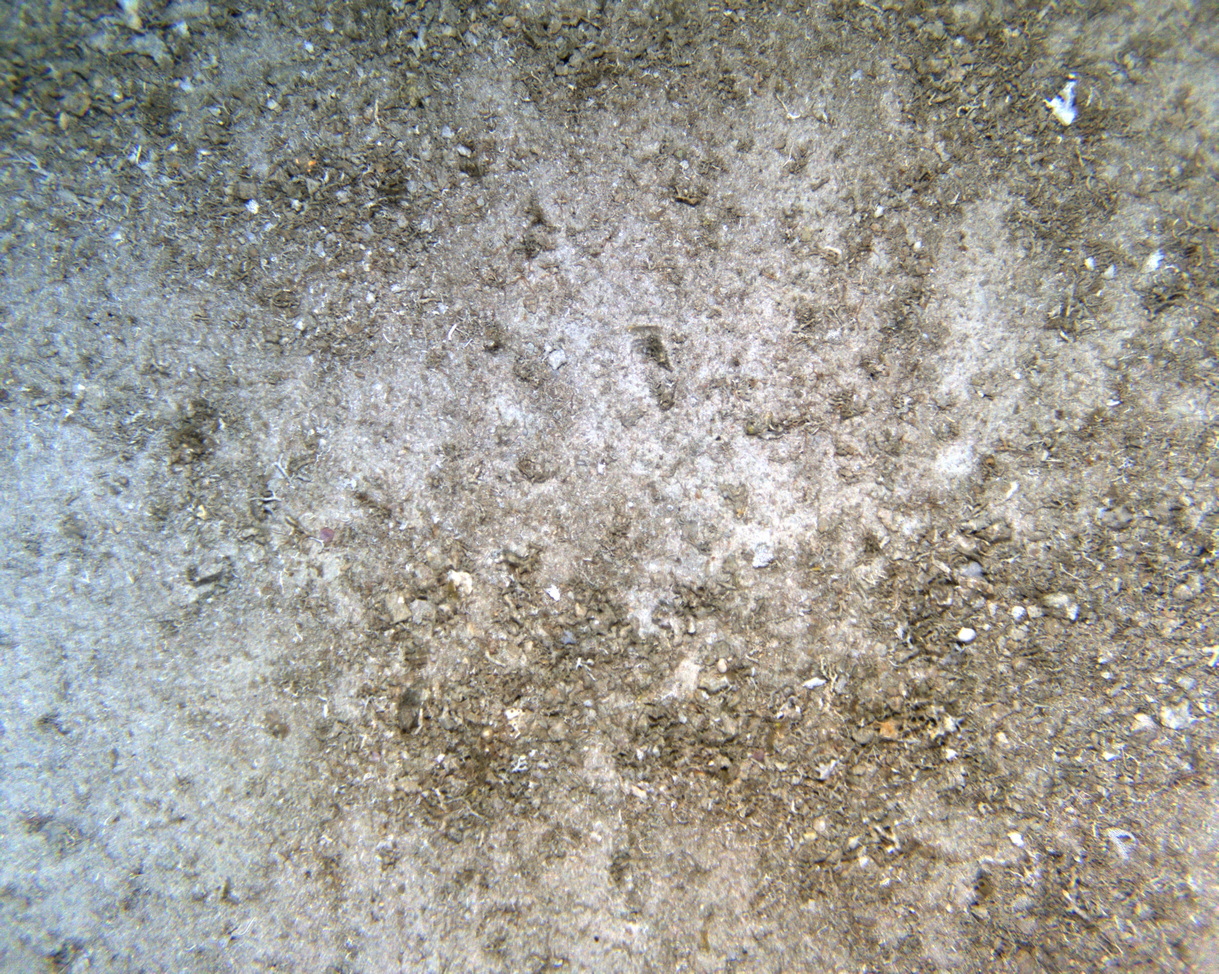Brachionichthyidae: (1042, 66, 1083, 130)
